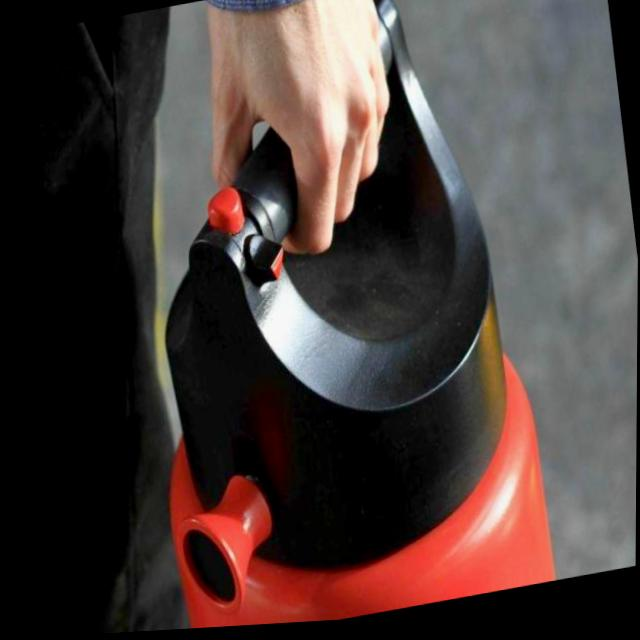FireExtinguisher: (98, 0, 566, 635)
